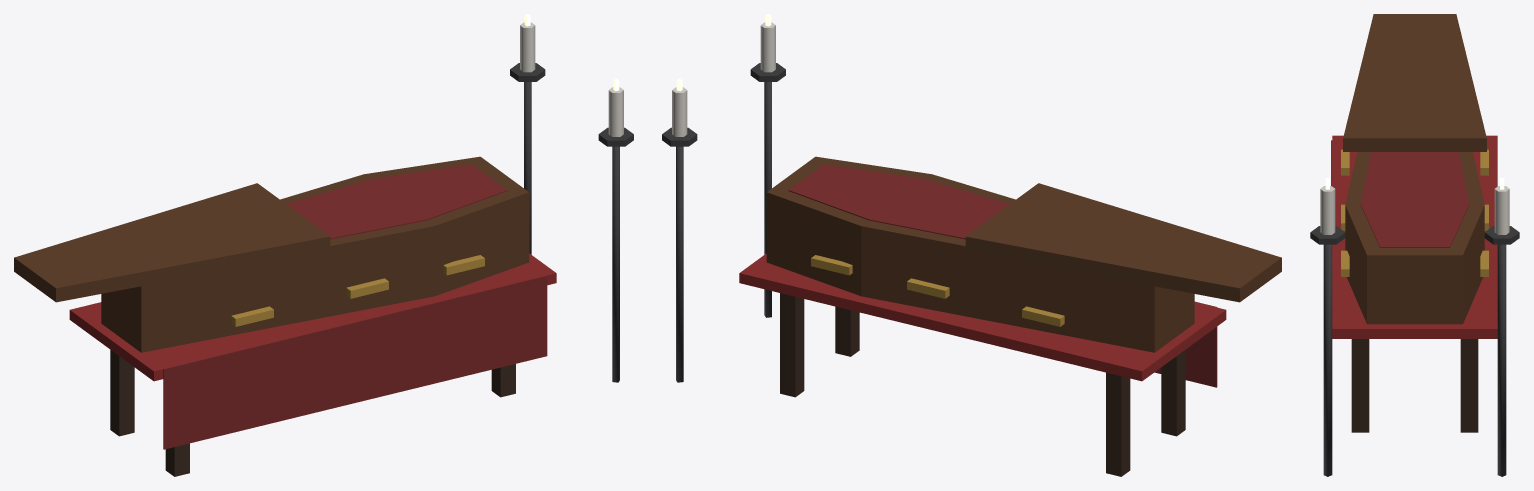
File: coffin_antique.glb
3 views of the same model, side by side, from view 1: azimuth 30°, elevation 25°; view 2: azimuth 150°, elevation 25°; view 3: azimuth 270°, elevation 25° (orthographic).
Visible parts, largest first — view 1: coffin_antique; view 2: coffin_antique; view 3: coffin_antique.
Boxes of the visible parts, x1,y1,x2,y2 form: coffin_antique: (14, 14, 633, 476); coffin_antique: (662, 14, 1281, 476); coffin_antique: (1310, 14, 1519, 476).
Bounding box in the file's own units: 2.87 × 1.5 × 0.96.
Materials: 1 (1 with a texture image).
